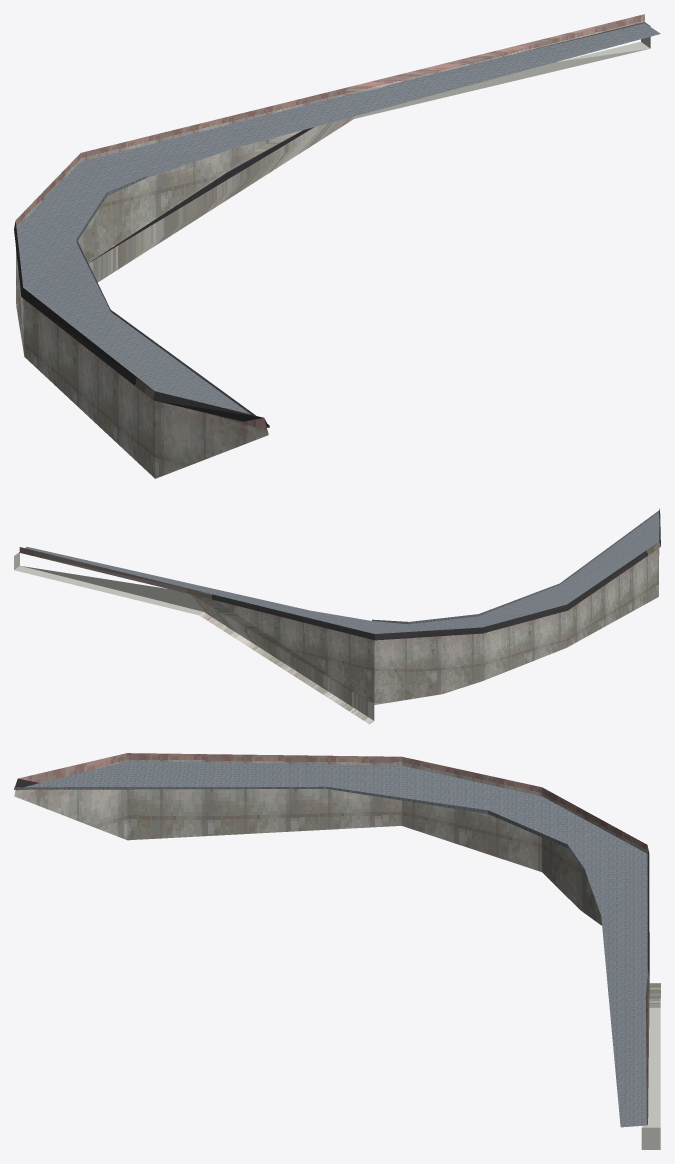
File: lod_corner.obj
3 renders of one model, top to bottom at view 1: azimuth 30°, elevation 25°; view 2: azimuth 150°, elevation 25°; view 3: azimuth 270°, elevation 25°, orthographic. The views are drawn at different scales.
Parts seen in each view (by area): view 1: lod_corner; view 2: lod_corner; view 3: lod_corner.
Part boxes in pixels (x1,y1,x2,y2): lod_corner: [14, 14, 660, 478]; lod_corner: [14, 508, 660, 724]; lod_corner: [14, 753, 660, 1149].
Size of the model in its own units: 103 by 18.23 by 77.07.
3 materials, 3 textured.
